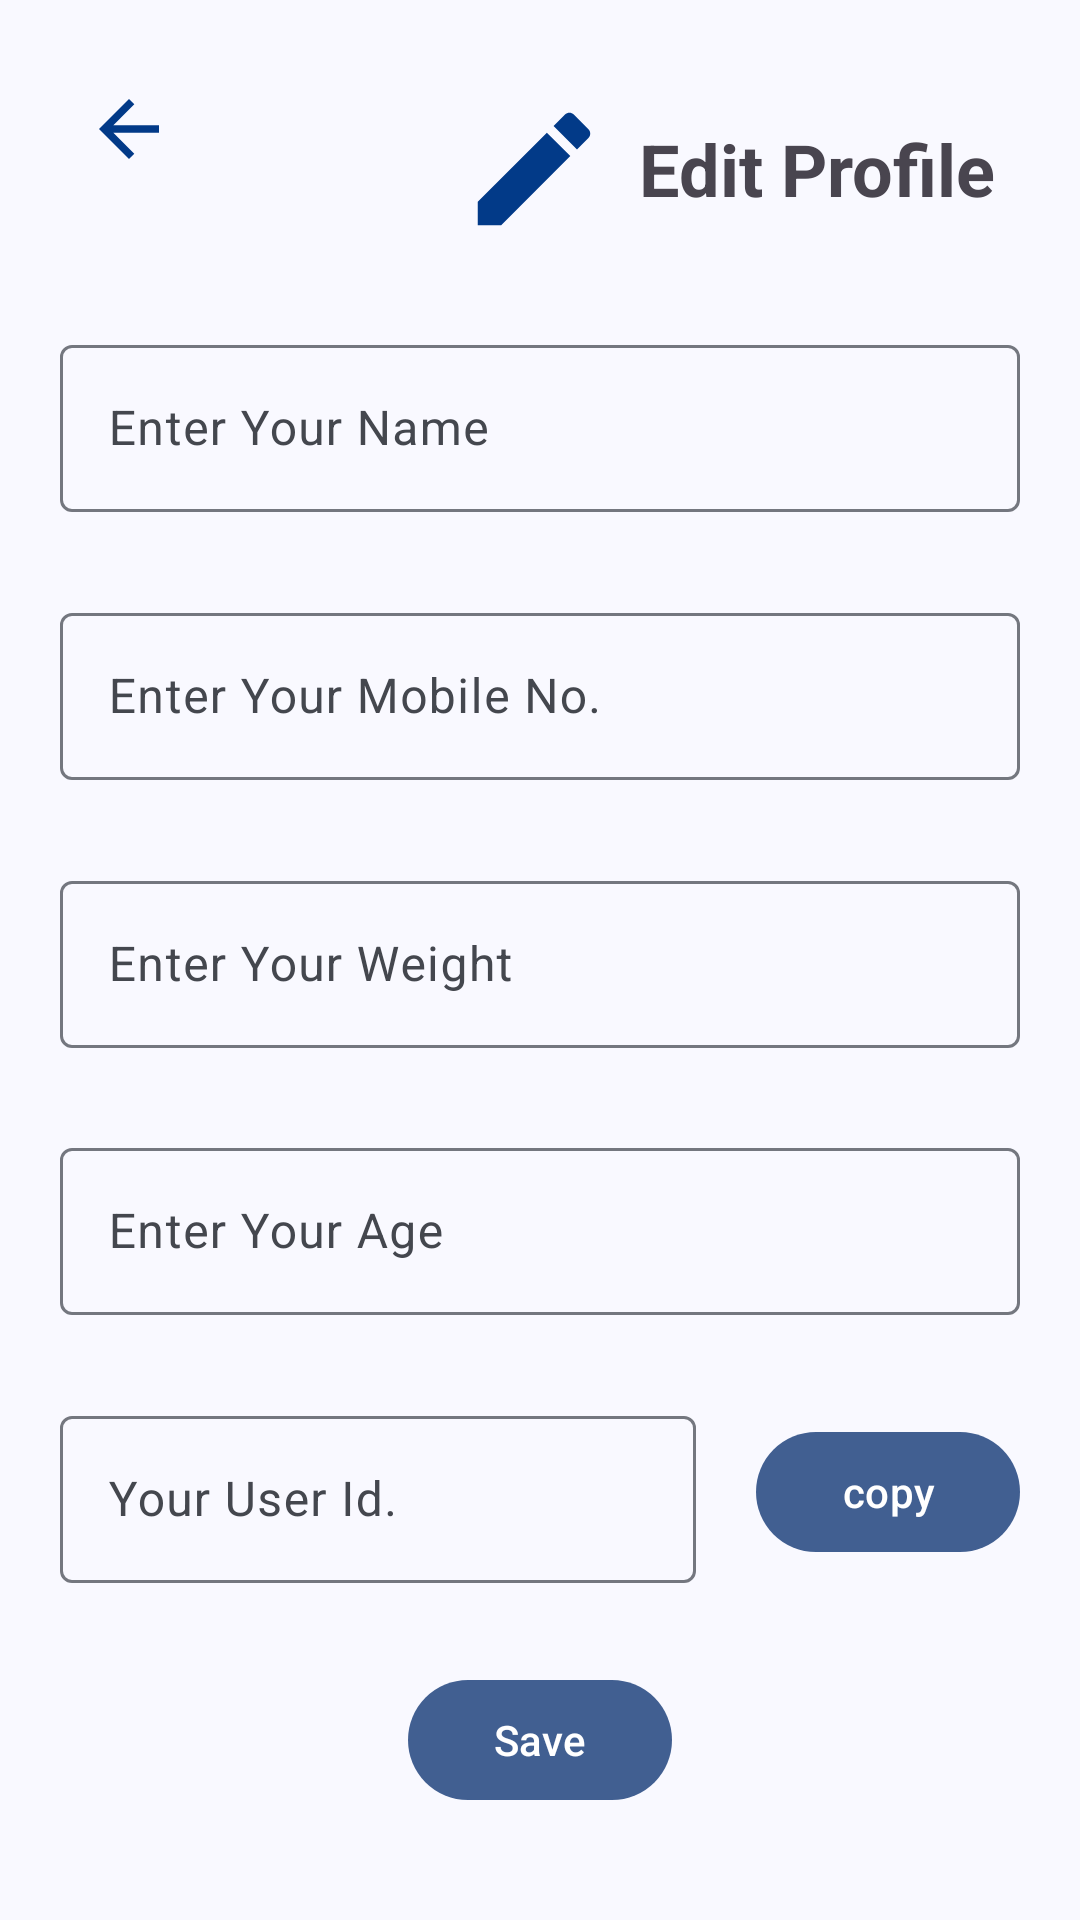

Icon bounding boxes for this 1080*1920 phone screenshot, format (x1, y1, x2, y2):
back: (99, 99, 159, 159)
